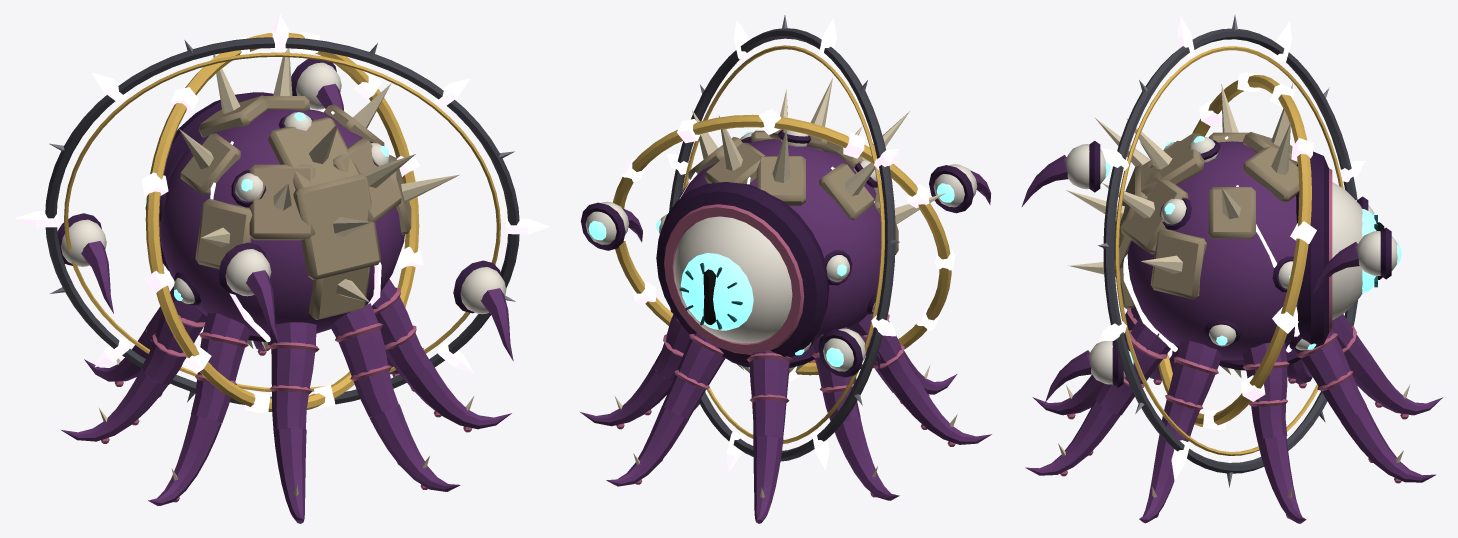
The model's file is ThousandEyed.fbx.
3 renders of one model, left to right at view 1: azimuth 30°, elevation 25°; view 2: azimuth 150°, elevation 25°; view 3: azimuth 270°, elevation 25°, orthographic. The views are drawn at different scales.
Parts seen in each view (by area): view 1: ThousandEyed_Body, ThousandEyed_HaloOuter, ThousandEyed_Eyelets, ThousandEyed_HaloInner, ThousandEyed_Tentacle6A, ThousandEyed_Tentacle7A, ThousandEyed_HaloInner_Glow_Violet, ThousandEyed_Tentacle5A, ThousandEyed_HaloOuter_Glow_Violet, ThousandEyed_Tentacle8A, ThousandEyed_Tentacle7B, ThousandEyed_Tentacle4A (+6 smaller); view 2: ThousandEyed_Body, ThousandEyed_HaloOuter, ThousandEyed_Eye, ThousandEyed_HaloInner, ThousandEyed_Eyelets, ThousandEyed_Eye_Glow_Teal, ThousandEyed_Tentacle3A, ThousandEyed_Tentacle2A, ThousandEyed_HaloInner_Glow_Violet, ThousandEyed_HaloOuter_Glow_Violet, ThousandEyed_Tentacle2B, ThousandEyed_Tentacle4B (+8 smaller); view 3: ThousandEyed_Body, ThousandEyed_HaloOuter, ThousandEyed_Eyelets, ThousandEyed_HaloInner, ThousandEyed_Tentacle8A, ThousandEyed_Eye, ThousandEyed_Tentacle2A, ThousandEyed_HaloInner_Glow_Violet, ThousandEyed_Tentacle1A, ThousandEyed_Tentacle7A, ThousandEyed_HaloOuter_Glow_Violet, ThousandEyed_Tentacle2B (+9 smaller).
Boxes of the visible parts, bbox=[...] form: ThousandEyed_Body: bbox=[145, 48, 459, 350]; ThousandEyed_HaloOuter: bbox=[45, 37, 519, 404]; ThousandEyed_Eyelets: bbox=[57, 59, 513, 361]; ThousandEyed_HaloInner: bbox=[145, 33, 419, 411]; ThousandEyed_Tentacle6A: bbox=[269, 322, 319, 430]; ThousandEyed_Tentacle7A: bbox=[330, 303, 398, 417]; ThousandEyed_HaloInner_Glow_Violet: bbox=[141, 32, 423, 412]; ThousandEyed_Tentacle5A: bbox=[191, 312, 250, 423]; ThousandEyed_HaloOuter_Glow_Violet: bbox=[14, 14, 550, 372]; ThousandEyed_Tentacle8A: bbox=[372, 279, 430, 379]; ThousandEyed_Tentacle7B: bbox=[369, 404, 460, 491]; ThousandEyed_Tentacle4A: bbox=[141, 290, 206, 384]; ThousandEyed_Body: bbox=[656, 78, 945, 373]; ThousandEyed_HaloOuter: bbox=[669, 15, 899, 461]; ThousandEyed_Eye: bbox=[673, 216, 792, 343]; ThousandEyed_HaloInner: bbox=[612, 114, 951, 375]; ThousandEyed_Eyelets: bbox=[580, 164, 991, 377]; ThousandEyed_Eye_Glow_Teal: bbox=[680, 253, 753, 330]; ThousandEyed_Tentacle3A: bbox=[746, 350, 792, 438]; ThousandEyed_Tentacle2A: bbox=[662, 332, 725, 419]; ThousandEyed_HaloInner_Glow_Violet: bbox=[622, 109, 955, 381]; ThousandEyed_HaloOuter_Glow_Violet: bbox=[665, 18, 899, 471]; ThousandEyed_Tentacle2B: bbox=[606, 406, 688, 486]; ThousandEyed_Tentacle4B: bbox=[834, 417, 899, 500]; ThousandEyed_Body: bbox=[1066, 83, 1332, 377]; ThousandEyed_HaloOuter: bbox=[1098, 14, 1357, 487]; ThousandEyed_Eyelets: bbox=[1022, 141, 1397, 402]; ThousandEyed_HaloInner: bbox=[1158, 75, 1311, 426]; ThousandEyed_Tentacle8A: bbox=[1162, 341, 1221, 441]; ThousandEyed_Eye: bbox=[1332, 182, 1384, 319]; ThousandEyed_Tentacle2A: bbox=[1295, 329, 1366, 421]; ThousandEyed_HaloInner_Glow_Violet: bbox=[1167, 72, 1316, 429]; ThousandEyed_Tentacle1A: bbox=[1242, 342, 1289, 440]; ThousandEyed_Tentacle7A: bbox=[1095, 317, 1170, 415]; ThousandEyed_HaloOuter_Glow_Violet: bbox=[1099, 16, 1365, 480]; ThousandEyed_Tentacle2B: bbox=[1341, 407, 1436, 483].
Size of the model in its own units: 2358 by 2697 by 2331.
Materials: 3 (1 with a texture image).
